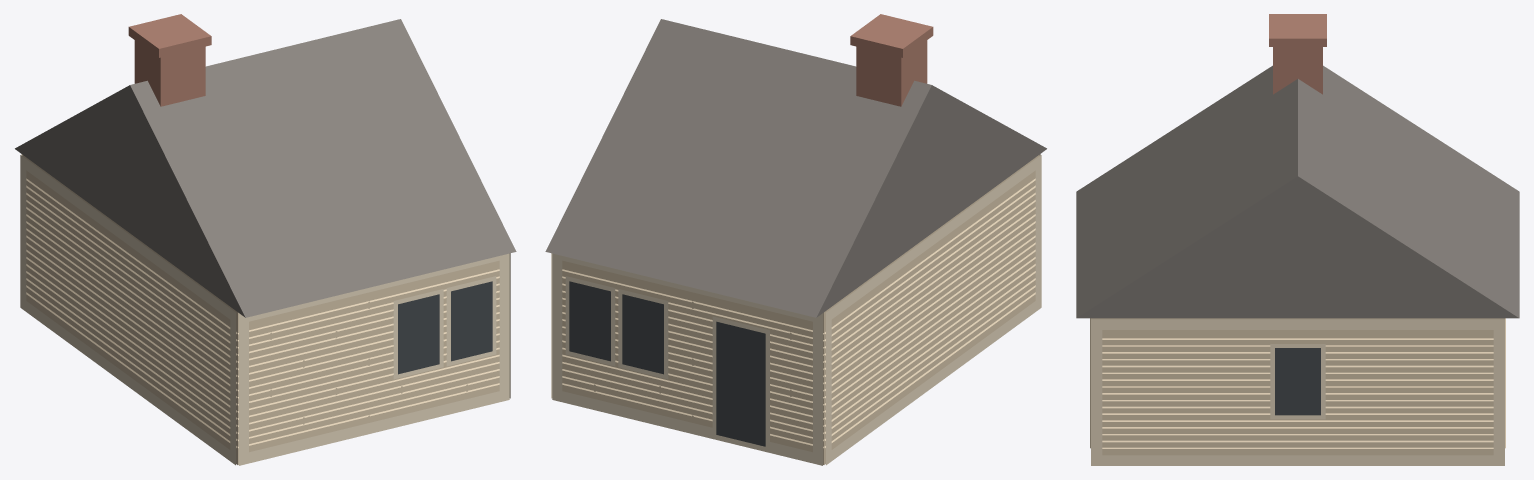
File: recon_1835_north_d3_002__inferred_1835.glb
3 views of the same model, side by side, from view 1: azimuth 30°, elevation 25°; view 2: azimuth 150°, elevation 25°; view 3: azimuth 270°, elevation 25° (orthographic). The views are drawn at different scales.
Visible parts, largest first — view 1: recon_1835_north_d3_002__inferred_1835; view 2: recon_1835_north_d3_002__inferred_1835; view 3: recon_1835_north_d3_002__inferred_1835.
Part boxes in pixels (x1,y1,x2,y2): recon_1835_north_d3_002__inferred_1835: (15,14,516,465); recon_1835_north_d3_002__inferred_1835: (545,14,1046,465); recon_1835_north_d3_002__inferred_1835: (1076,14,1519,465).
Size of the model in its own units: 5.14 by 6.16 by 7.48.
